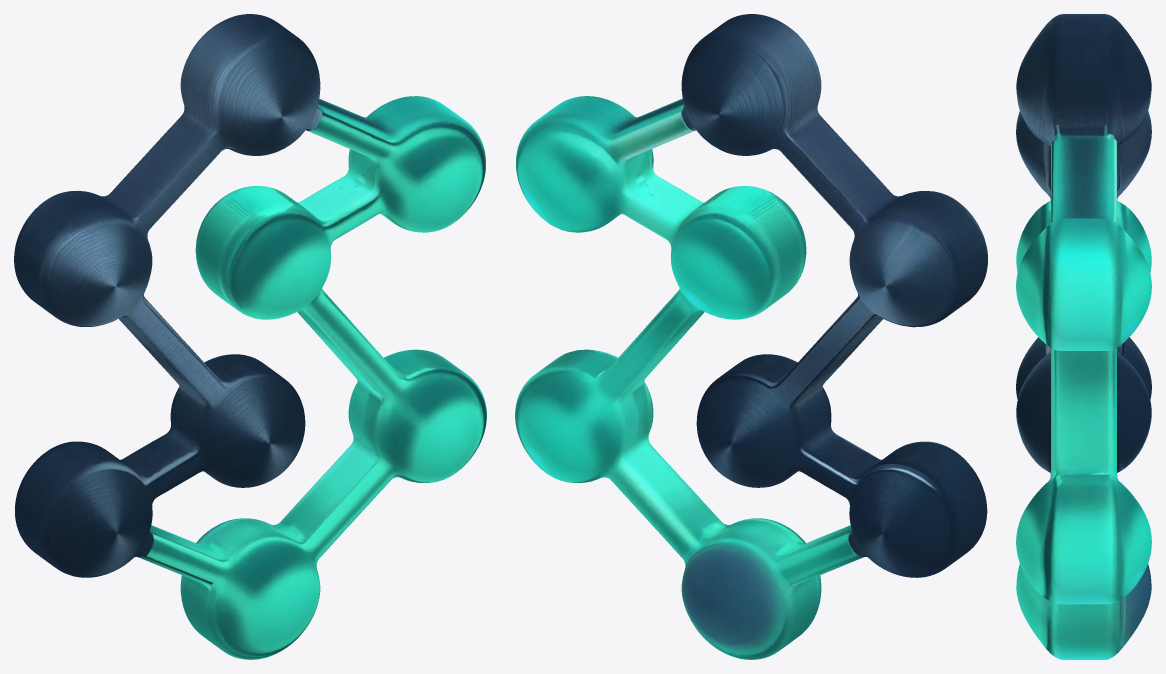
The model's file is soflia3d.web.glb.
3 renders of one model, left to right at view 1: azimuth 30°, elevation 25°; view 2: azimuth 150°, elevation 25°; view 3: azimuth 270°, elevation 25°, orthographic.
Visible parts, largest first — view 1: mesh_node; view 2: mesh_node; view 3: mesh_node.
Part boxes in pixels (x1,y1,x2,y2): mesh_node: [14, 14, 486, 659]; mesh_node: [515, 14, 987, 659]; mesh_node: [1016, 14, 1151, 659].
Size of the model in its own units: 1.42 by 1.9 by 0.3687.
1 material, 1 textured.
